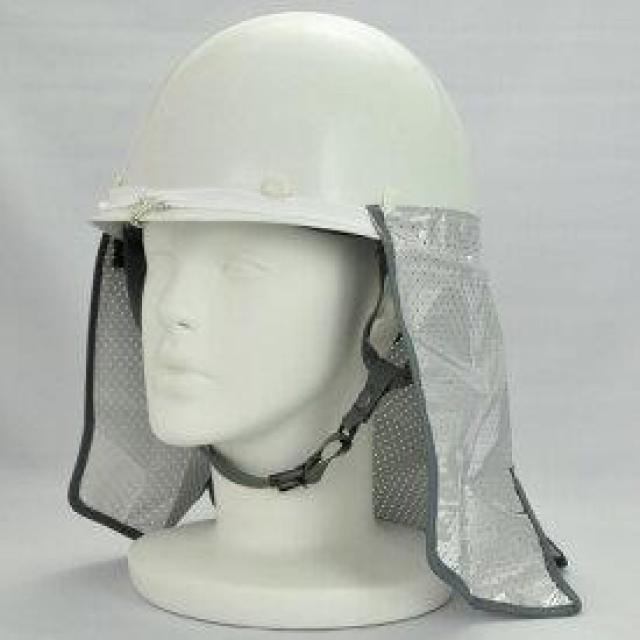hat: (88, 10, 482, 238)
